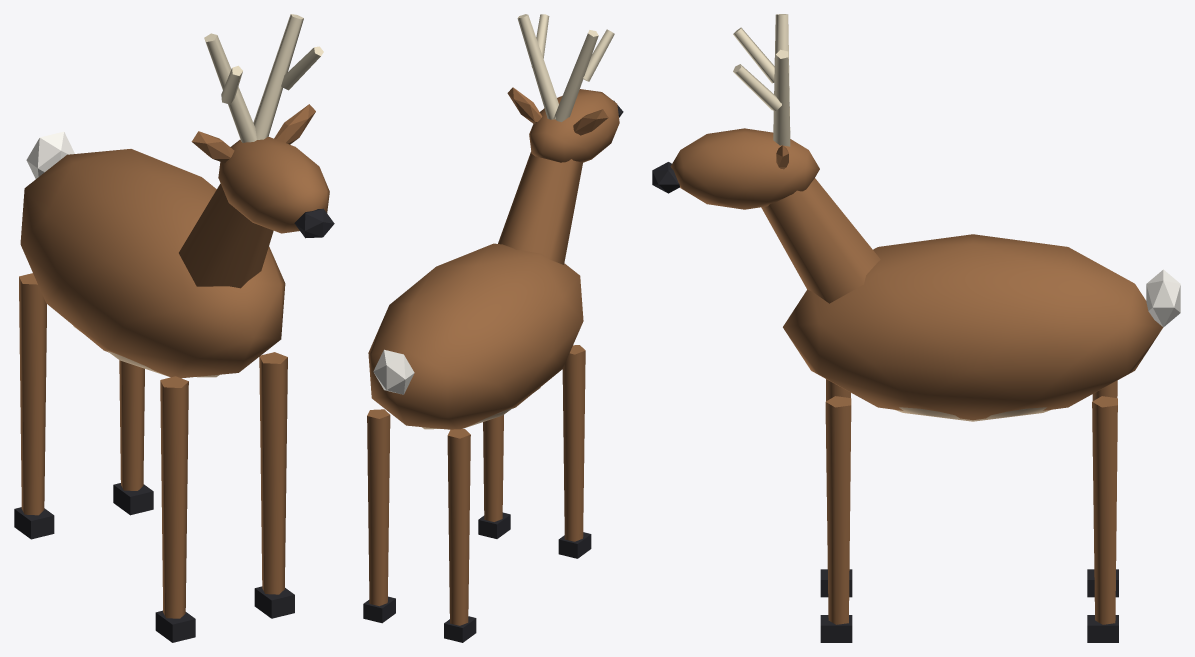
Rendered from ciervo.glb.
3 views of the same model, side by side, from view 1: azimuth 30°, elevation 25°; view 2: azimuth 150°, elevation 25°; view 3: azimuth 270°, elevation 25° (orthographic). The views are drawn at different scales.
Visible parts, largest first — view 1: cuerpo, craneo, pata_1, pata_2, pata_3, cuello, pata_4, cuerno_der, cuerno_izq, cola, pezuna_1, pezuna_2 (+7 smaller); view 2: cuerpo, cuello, pata_3, pata_4, pata_1, craneo, pata_2, cuerno_der, cuerno_izq, cola, pezuna_1, pezuna_2 (+5 smaller); view 3: cuerpo, craneo, cuello, pata_2, pata_4, cola, cuerno_der, vientre, pezuna_2, cuerno_rama_izq, cuerno_rama_der, pezuna_4.
Part boxes in pixels (x1,y1,x2,y2): cuerpo: (20, 149, 285, 378); craneo: (218, 136, 329, 233); pata_1: (160, 376, 188, 618); pata_2: (259, 352, 287, 594); pata_3: (19, 273, 46, 515); cuello: (179, 183, 273, 288); pata_4: (119, 360, 144, 490); cuerno_der: (253, 14, 303, 139); cuerno_izq: (204, 33, 256, 142); cola: (26, 131, 74, 178); pezuna_1: (155, 610, 195, 642); pezuna_2: (254, 586, 294, 618); cuerpo: (368, 243, 583, 429); cuello: (498, 151, 582, 264); pata_3: (447, 429, 470, 625); pata_4: (367, 409, 390, 606); pata_1: (562, 345, 585, 541); craneo: (529, 89, 619, 162); pata_2: (483, 415, 503, 521); cuerno_der: (517, 14, 558, 119); cuerno_izq: (553, 30, 598, 122); cola: (373, 349, 414, 394); pezuna_1: (558, 532, 591, 558); pezuna_2: (478, 512, 510, 538); cuerpo: (783, 234, 1162, 420); craneo: (670, 128, 819, 209); cuello: (761, 178, 880, 303); pata_2: (825, 396, 851, 624); pata_4: (1092, 396, 1117, 624); cola: (1146, 269, 1180, 327); cuerno_der: (773, 49, 790, 146); vientre: (894, 407, 1051, 421); pezuna_2: (820, 615, 852, 642); cuerno_rama_izq: (733, 27, 774, 83); cuerno_rama_der: (733, 64, 781, 110); pezuna_4: (1087, 615, 1118, 642).
Size of the model in its own units: 0.64 by 2.03 by 1.67.
